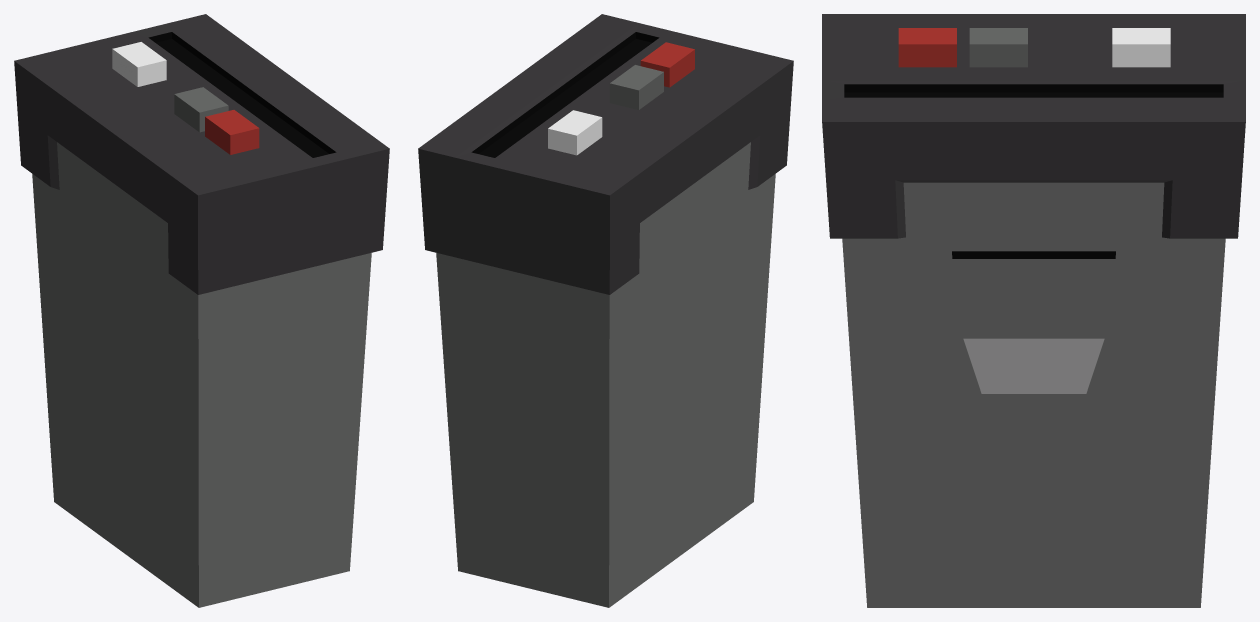
The model's file is SM_PaperShredder_01.glb.
The picture shows the model from 3 angles, left to right: view 1: azimuth 30°, elevation 25°; view 2: azimuth 150°, elevation 25°; view 3: azimuth 270°, elevation 25°; orthographic projection. The views are drawn at different scales.
Visible parts, largest first — view 1: SM_PaperShredder_01; view 2: SM_PaperShredder_01; view 3: SM_PaperShredder_01.
Boxes of the visible parts, x1=… form: SM_PaperShredder_01: x1=14, y1=14, x2=389, y2=607; SM_PaperShredder_01: x1=418, y1=14, x2=793, y2=607; SM_PaperShredder_01: x1=822, y1=14, x2=1245, y2=607.
Bounding box in the file's own units: 0.2251 × 0.5064 × 0.3738.
Materials: 1 (1 with a texture image).
